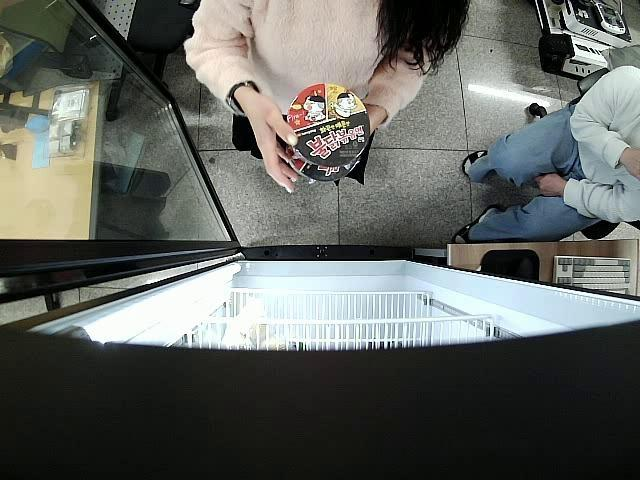07_buldak_L: (288, 87, 371, 164)
